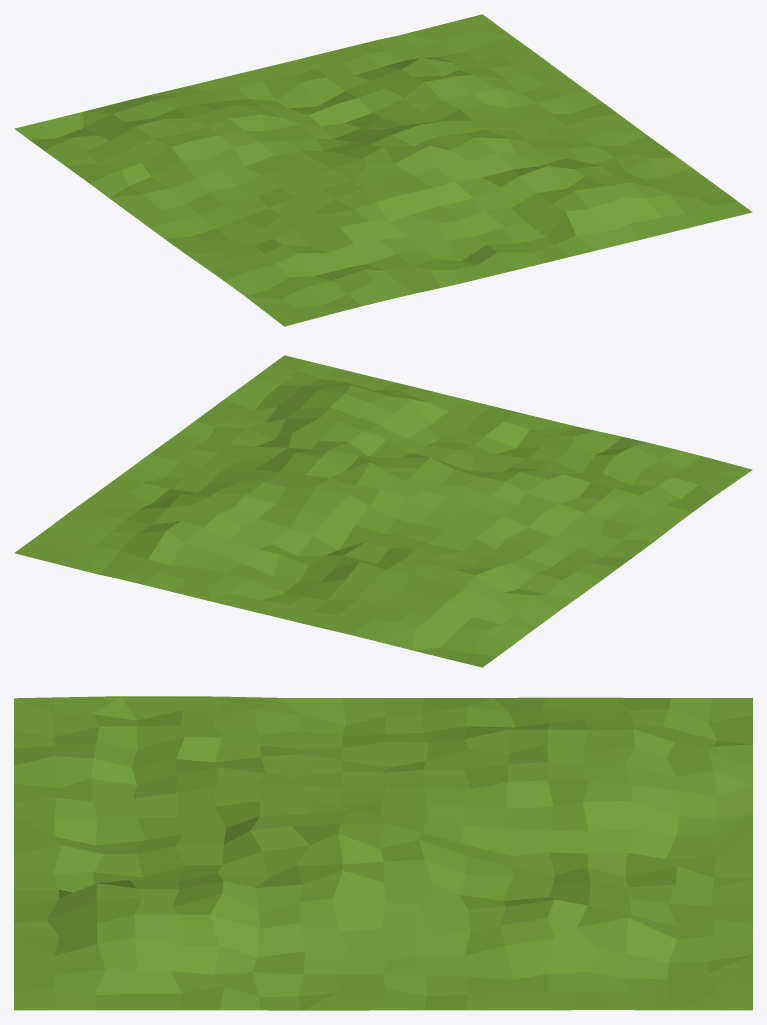
File: SM_Land_01_B.glb
3 views of the same model, one above another, from view 1: azimuth 30°, elevation 25°; view 2: azimuth 150°, elevation 25°; view 3: azimuth 270°, elevation 25° (orthographic). The views are drawn at different scales.
Parts seen in each view (by area): view 1: SM_Land_01_B; view 2: SM_Land_01_B; view 3: SM_Land_01_B.
Part boxes in pixels (x1,y1,x2,y2): SM_Land_01_B: (14, 14, 752, 326); SM_Land_01_B: (14, 355, 752, 667); SM_Land_01_B: (14, 696, 752, 1010).
Size of the model in its own units: 6 by 0.45 by 6.
Materials: 1 (1 with a texture image).
